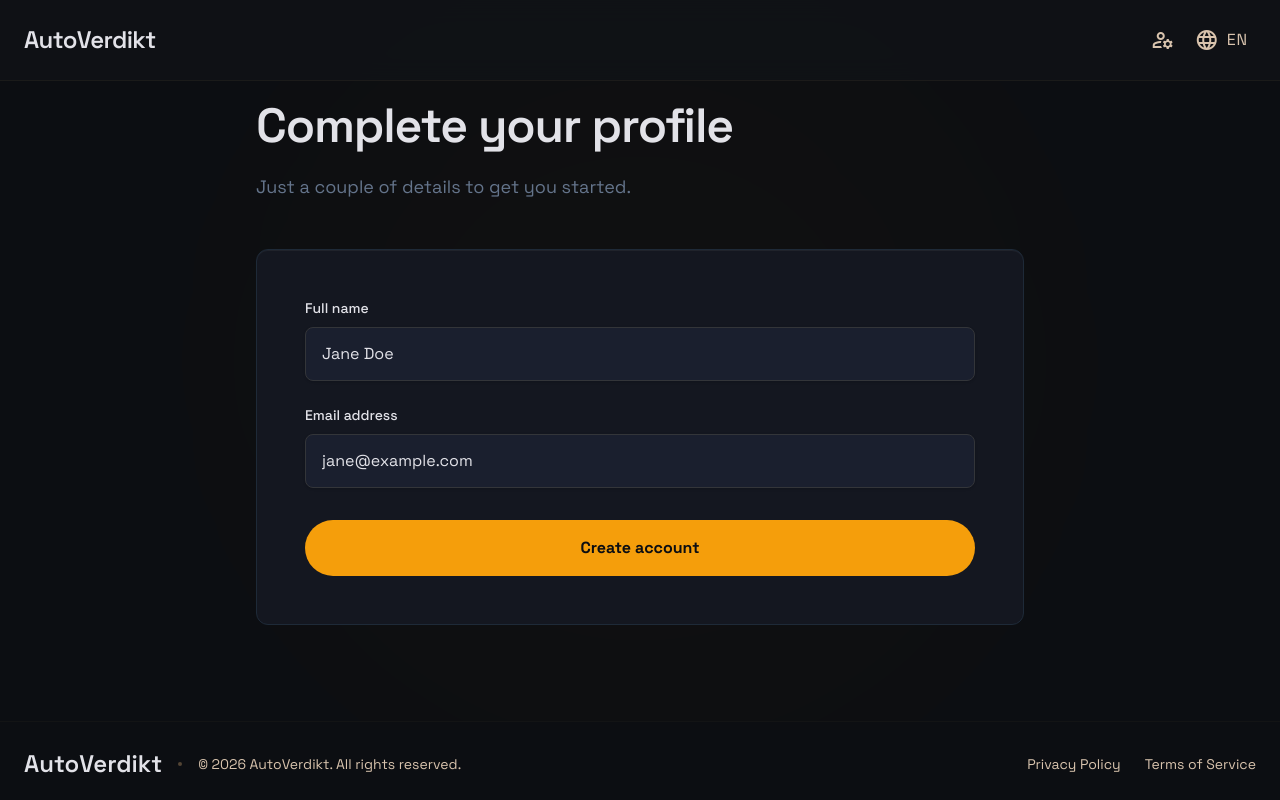
Test case: RegisterPage › shows generic error message when response body is not JSON
Click the button "Create account" at (640, 548), box [305,520,975,576]
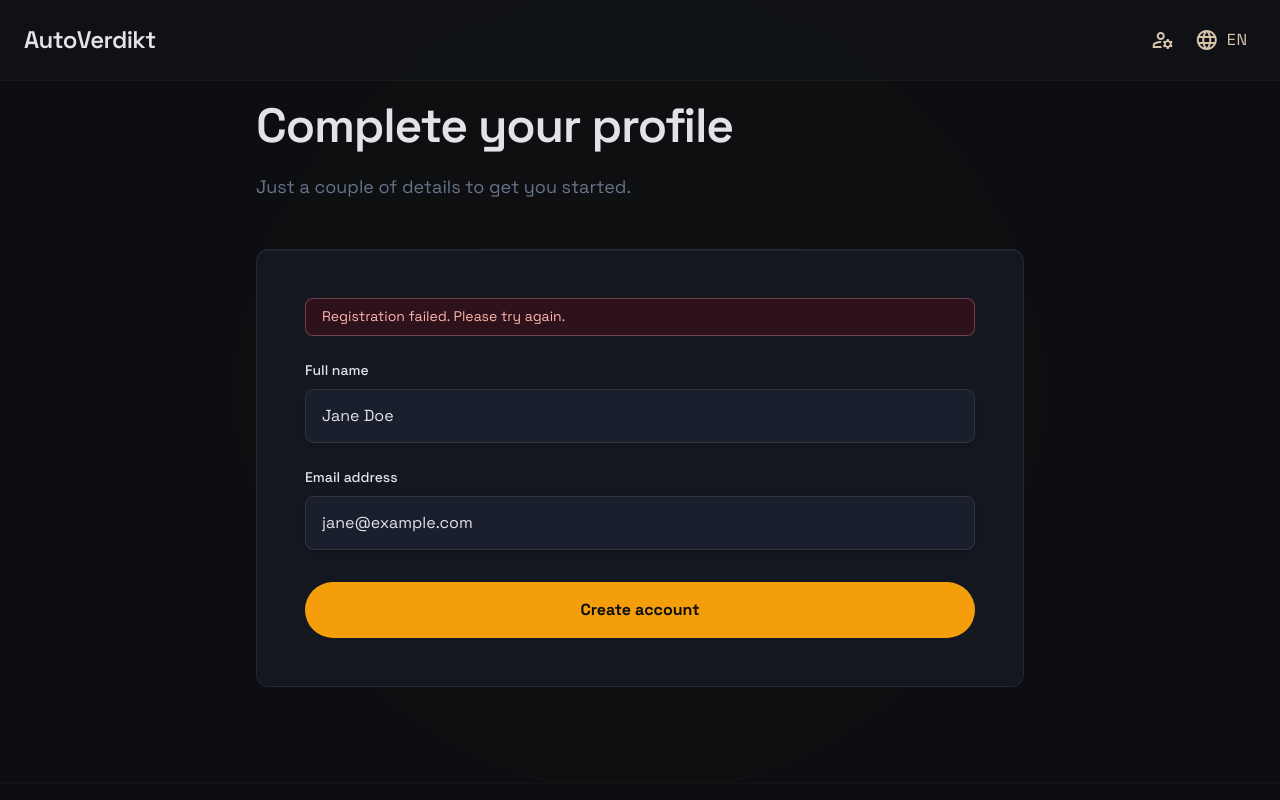
Expected: the text "Registration failed. Please try again." is shown, [305,298,975,336]
